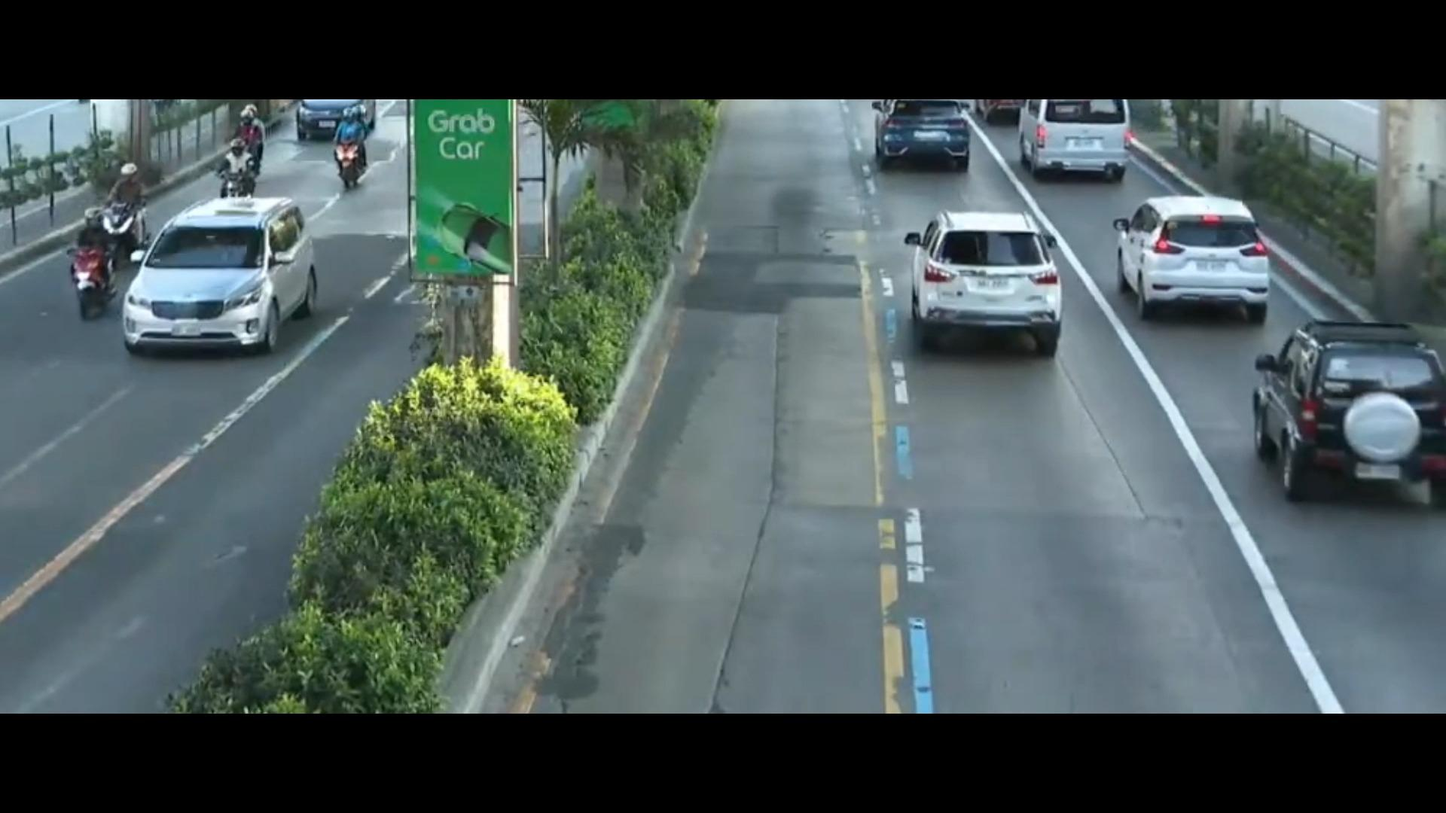Motorcycle: (43, 199, 131, 328), (211, 103, 279, 198), (97, 156, 161, 256), (326, 103, 392, 192), (206, 126, 255, 192)
SUV: (1216, 320, 1446, 519), (107, 186, 339, 366), (887, 184, 1090, 370), (1088, 176, 1293, 316), (872, 93, 989, 175)
Van: (1023, 97, 1140, 185)
